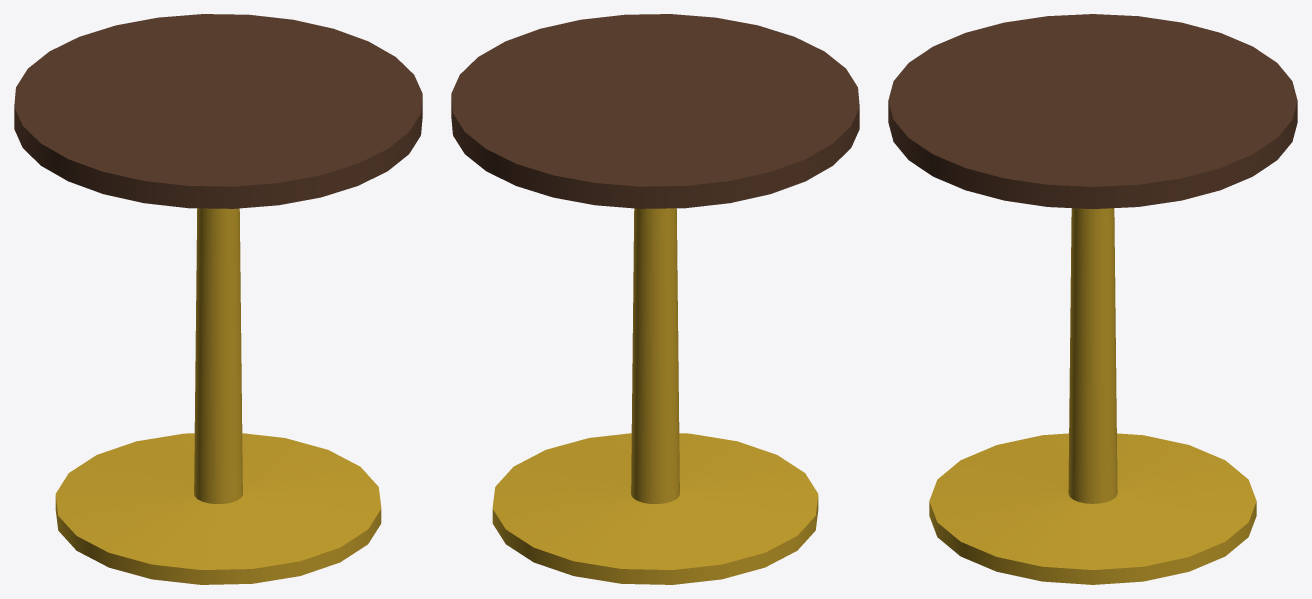
The model's file is prop_side_table.glb.
3 renders of one model, left to right at view 1: azimuth 30°, elevation 25°; view 2: azimuth 150°, elevation 25°; view 3: azimuth 270°, elevation 25°, orthographic.
Visible parts, largest first — view 1: Table; view 2: Table; view 3: Table.
Boxes of the visible parts, <box> form: Table: <box>14,14,422,584</box>; Table: <box>451,14,859,584</box>; Table: <box>888,14,1297,584</box>.
Size of what is drawn, in the model's own units: 0.5 by 0.56 by 0.5.
